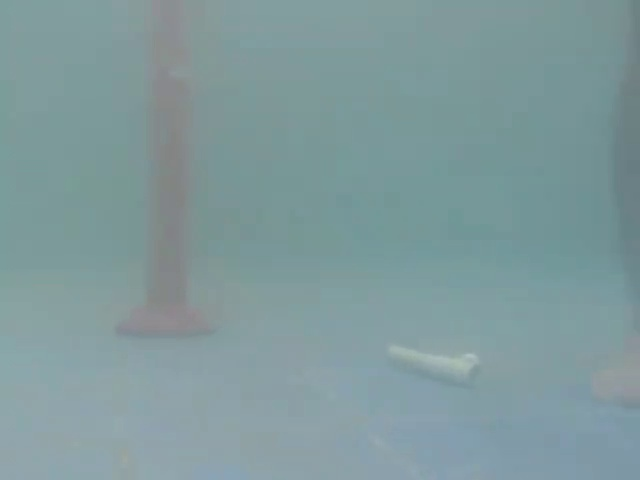flare: (107, 0, 223, 345)
